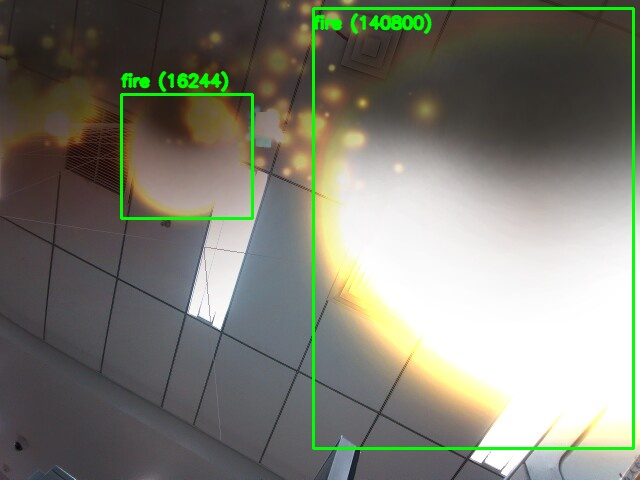fire: (313, 8, 633, 448), (121, 94, 252, 218)
